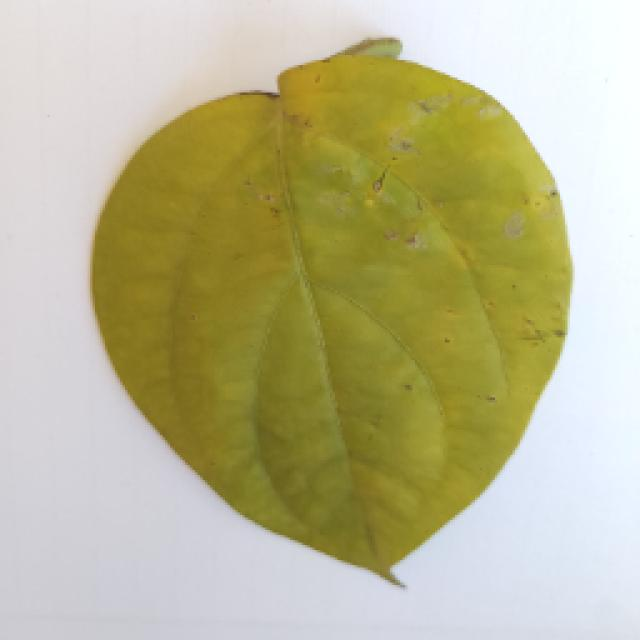slow-decline: (68, 48, 598, 598)
